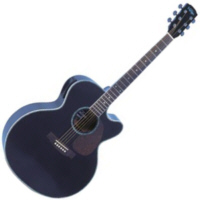guitar: (2, 4, 197, 199)
